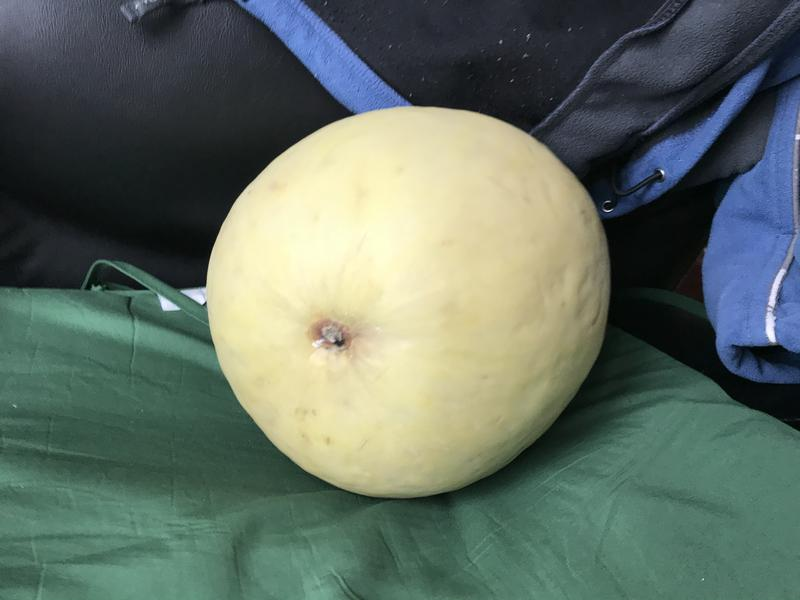honeydew: (197, 98, 621, 513)
